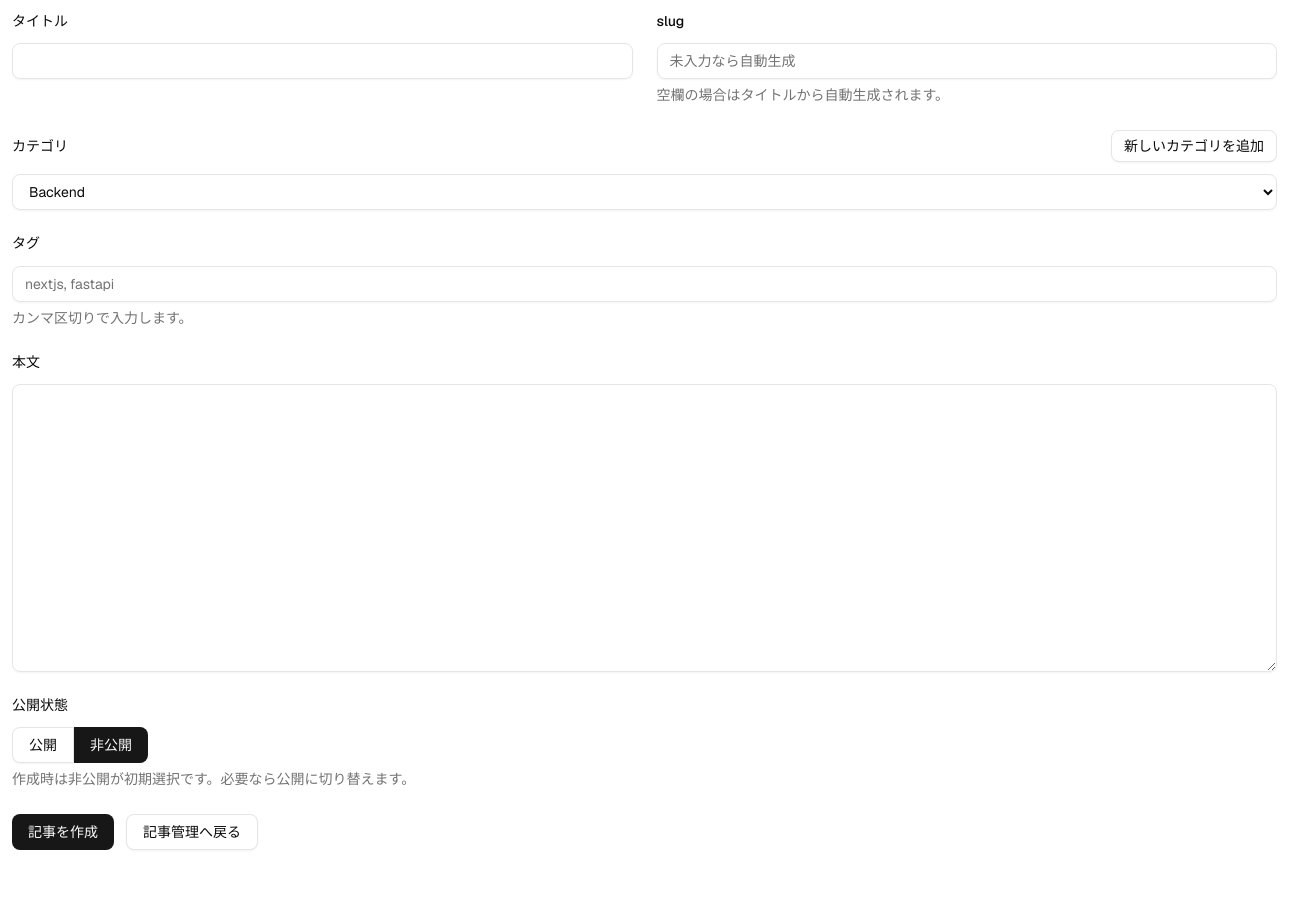
Test: CreateArticleForm › 未入力のまま送信すると項目ごとのエラーを表示する
Select "" in the dropdown labelled "カテゴリ" at (644, 192), box x1=12 y1=174 x2=1277 y2=210
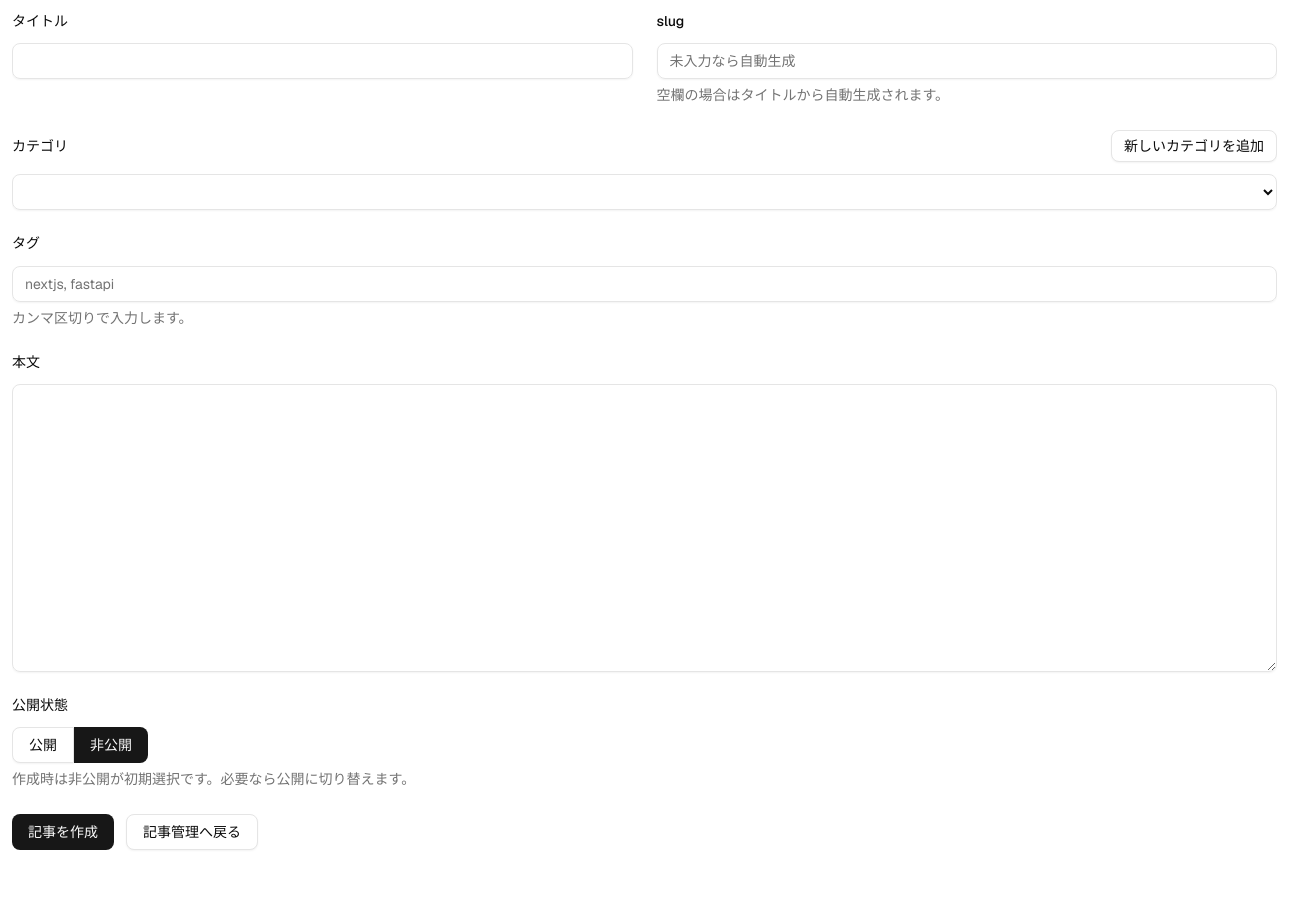
Click the button "記事を作成" at (63, 832), box x1=12 y1=814 x2=114 y2=850
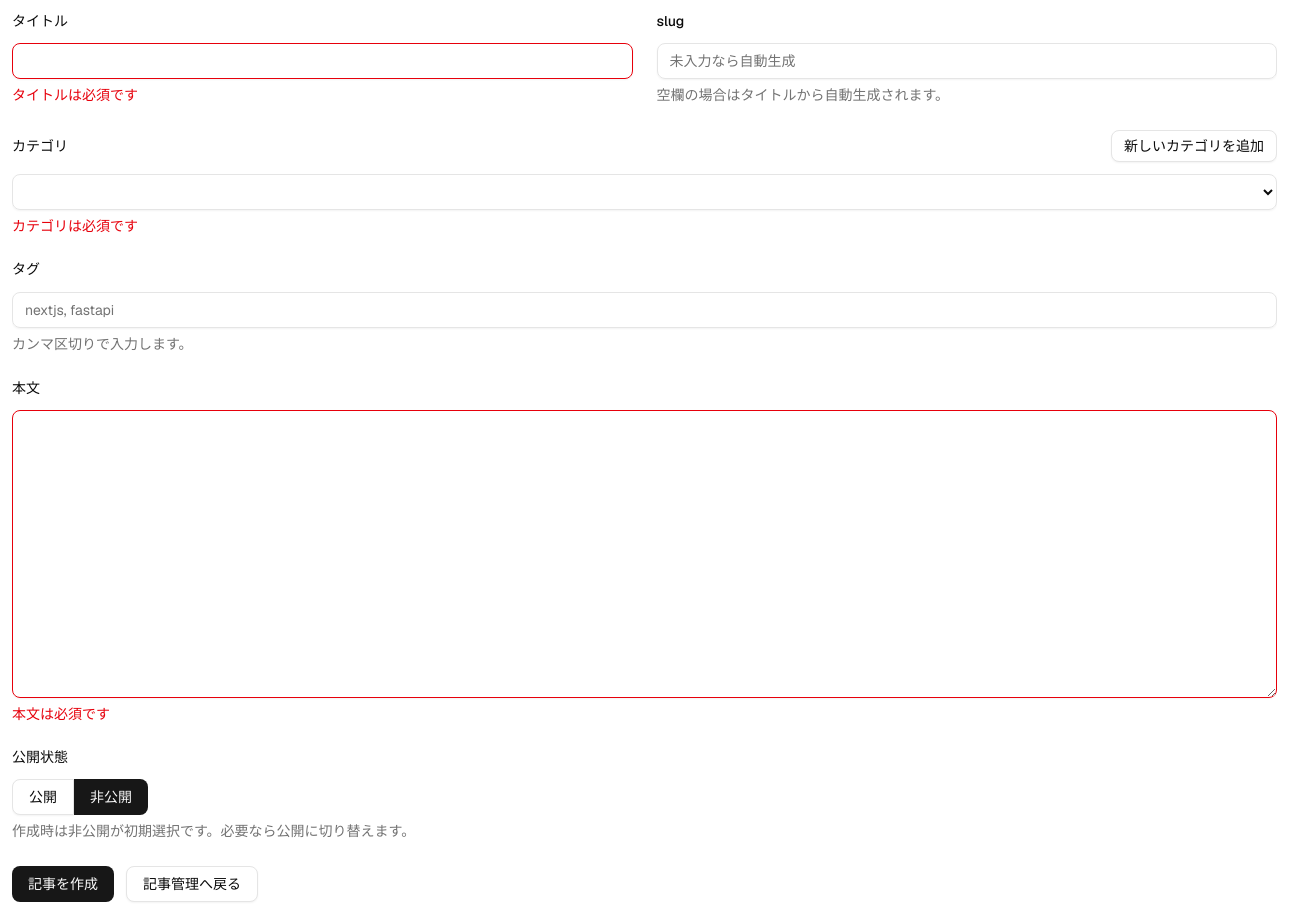
Check: the text "タイトルは必須です" is shown, box x1=12 y1=86 x2=138 y2=104
Check: the text "カテゴリは必須です" is shown, box x1=12 y1=217 x2=138 y2=235
Check: the text "本文は必須です" is shown, box x1=12 y1=705 x2=110 y2=723
